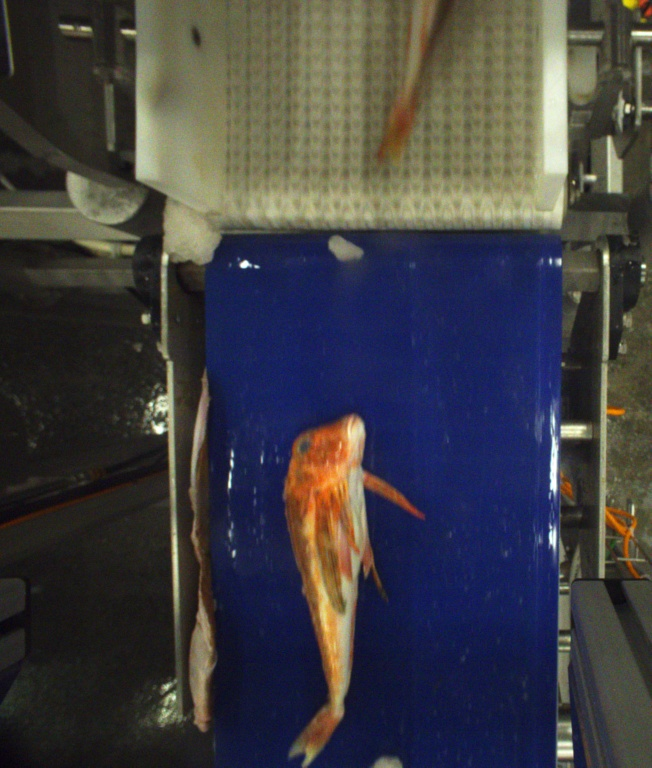GUU: (376, 1, 445, 158)
